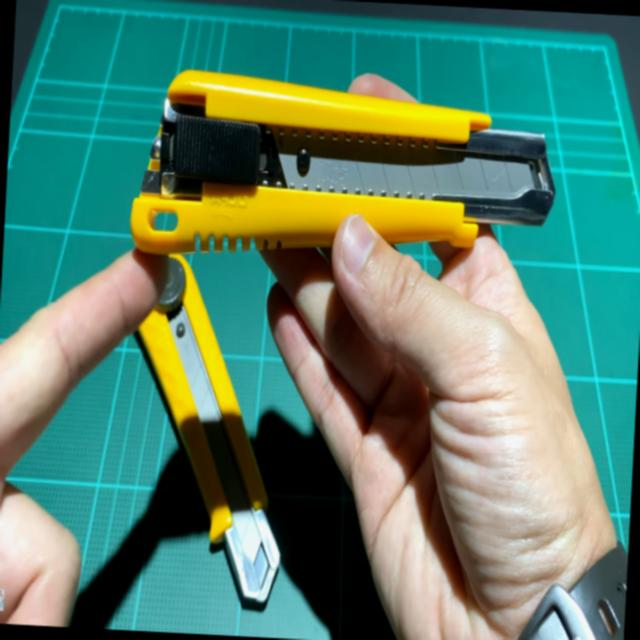cutter: (0, 36, 640, 634)
